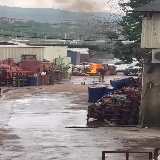fire: (86, 64, 102, 73)
